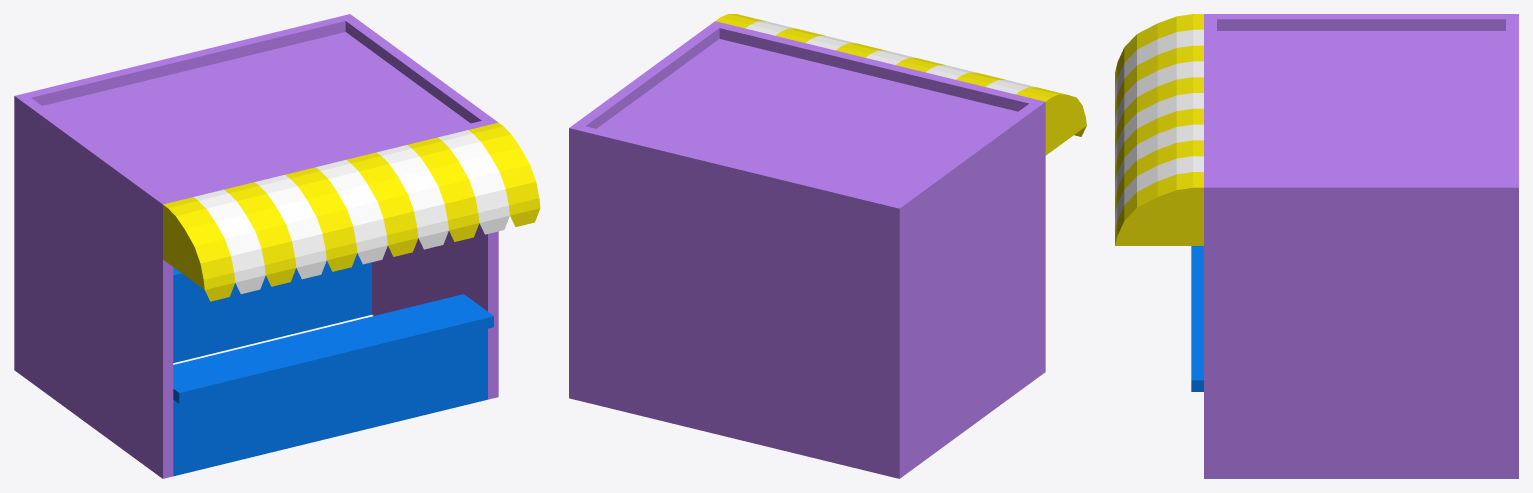
Rendered from SM Lempar Cincin.fbx.
3 renders of one model, left to right at view 1: azimuth 30°, elevation 25°; view 2: azimuth 150°, elevation 25°; view 3: azimuth 270°, elevation 25°, orthographic. The views are drawn at different scales.
Visible parts, largest first — view 1: Stand Mainan Lempar Cincin; view 2: Stand Mainan Lempar Cincin; view 3: Stand Mainan Lempar Cincin.
Boxes of the visible parts, x1=… form: Stand Mainan Lempar Cincin: x1=14, y1=14, x2=540, y2=478; Stand Mainan Lempar Cincin: x1=569, y1=14, x2=1086, y2=478; Stand Mainan Lempar Cincin: x1=1115, y1=14, x2=1518, y2=478.
Bounding box in the file's own units: 320 × 250 × 314.
